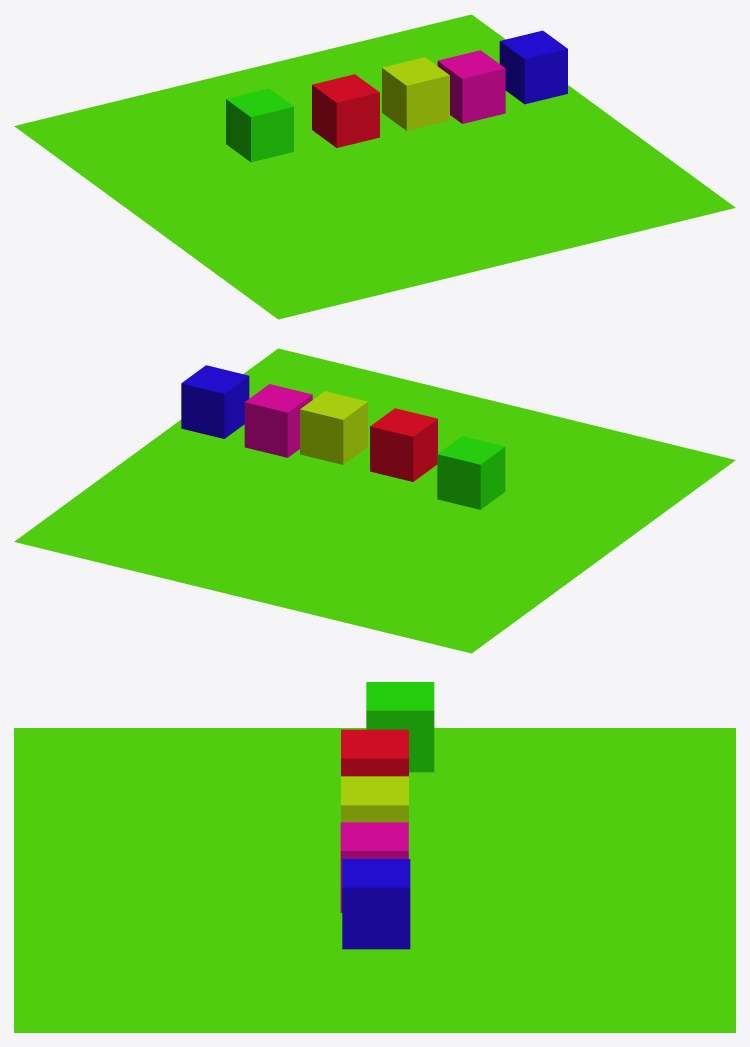
Rendered from Map.glb.
3 views of the same model, one above another, from view 1: azimuth 30°, elevation 25°; view 2: azimuth 150°, elevation 25°; view 3: azimuth 270°, elevation 25° (orthographic). The views are drawn at different scales.
Visible parts, largest first — view 1: Plane, Show, Feira, Show2, Galeria, Show3; view 2: Plane, Feira, Show, Show2, Galeria, Show3; view 3: Plane, Galeria, Feira, Show, Show2, Show3.
Part boxes in pixels (box(x1,y1,x2,y2)): Plane: box(14, 14, 735, 319); Show: box(312, 74, 379, 147); Feira: box(226, 88, 293, 162); Show2: box(382, 57, 449, 130); Galeria: box(499, 30, 567, 104); Show3: box(437, 50, 505, 123); Plane: box(14, 348, 735, 653); Feira: box(437, 436, 505, 509); Show: box(370, 408, 437, 481); Show2: box(300, 391, 367, 464); Galeria: box(181, 365, 249, 438); Show3: box(244, 384, 312, 457); Plane: box(14, 728, 735, 1032); Galeria: box(342, 859, 410, 949); Feira: box(366, 682, 434, 772); Show: box(341, 729, 408, 776); Show2: box(341, 776, 408, 858); Show3: box(340, 822, 408, 912).
Bounding box in the file's own units: 21.22 × 3.79 × 21.22.
